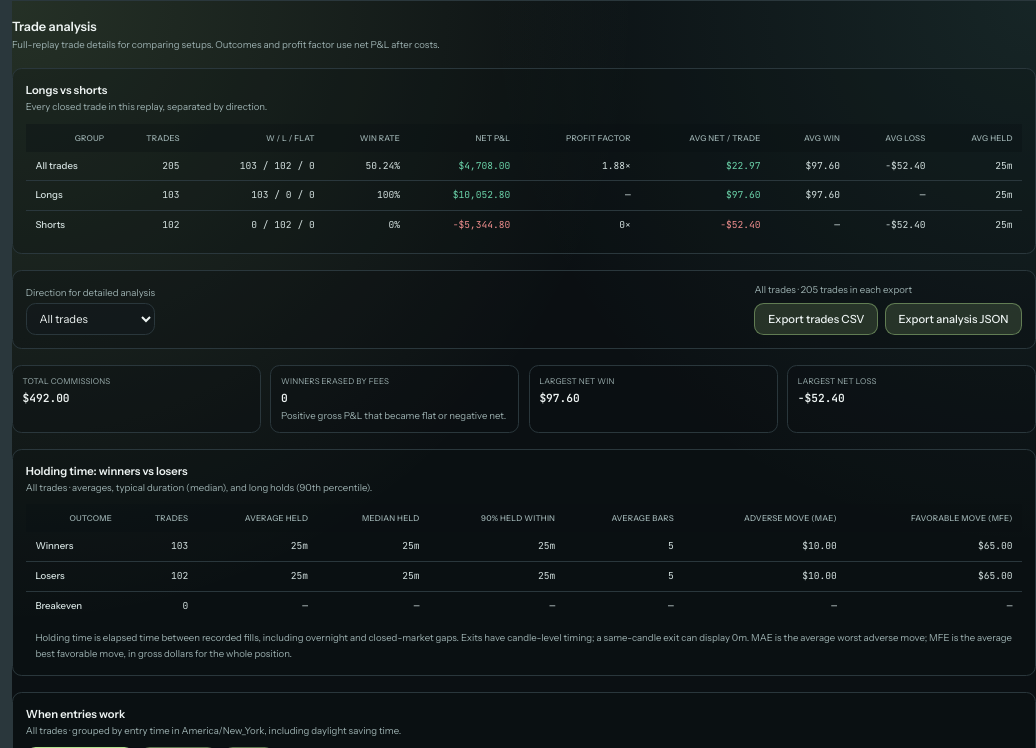
Test case: BacktestTradeAnalysis › shows counts and winner/loser timing, then filters details by direction
Check: the text "205" is shown, box [114,152,189,181]
Check: the text "103" below "Longs vs shorts" is shown, box [162,188,180,201]
Select "Short trades" in the dropdown labelled "Analysis direction". click: [90, 319]
box: [26,303,155,335]
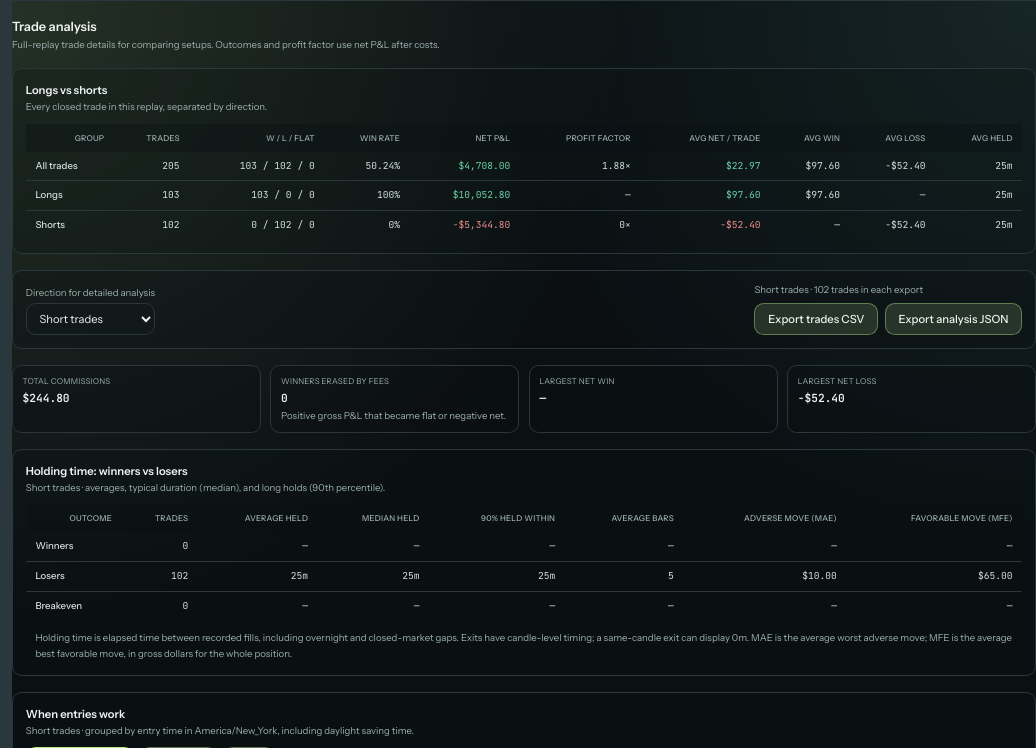
Check: the 1st text "0" is shown, box [122,532,198,562]
Check: the 4th text "—" is shown, box [198,532,318,562]
Check: the text "Short trades · 102 trades in each export" is shown, box [754,284,923,294]
